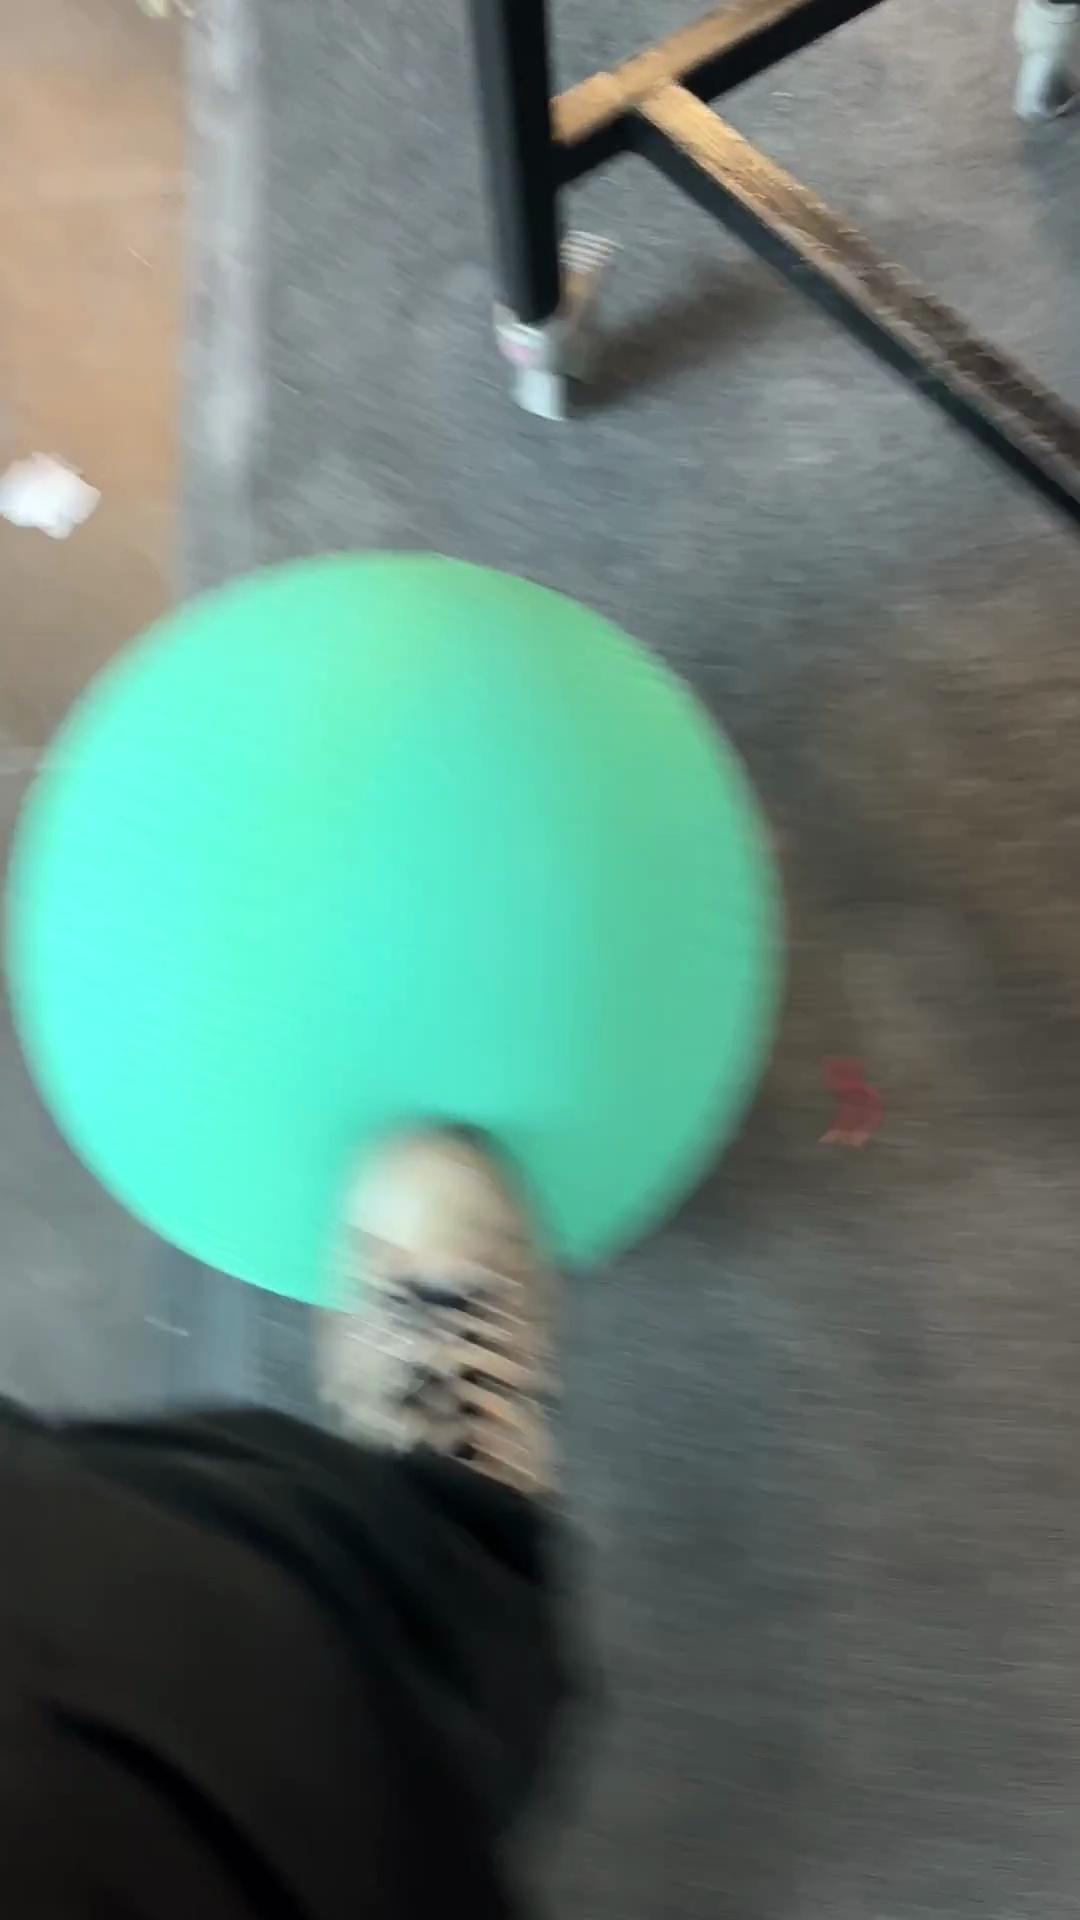ALGAE: (4, 545, 789, 1313)
